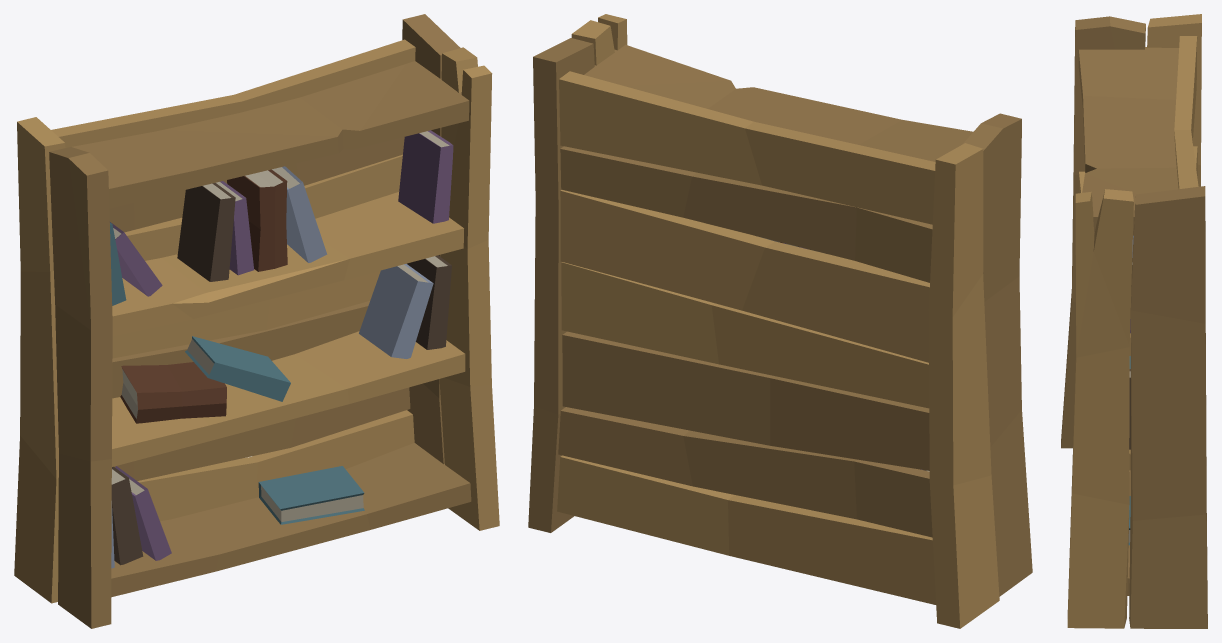
Rendered from Bookshelf_2.gltf.
3 views of the same model, side by side, from view 1: azimuth 30°, elevation 25°; view 2: azimuth 150°, elevation 25°; view 3: azimuth 270°, elevation 25° (orthographic). The views are drawn at different scales.
Parts seen in each view (by area): view 1: Bookshelf_22; view 2: Bookshelf_22; view 3: Bookshelf_22.
Boxes of the visible parts, <box> form: Bookshelf_22: <box>14,14,499,628</box>; Bookshelf_22: <box>528,14,1032,628</box>; Bookshelf_22: <box>1061,14,1207,628</box>.
Bounding box in the file's own units: 0.5412 × 0.568 × 0.1752.
Materials: 1 (1 with a texture image).
